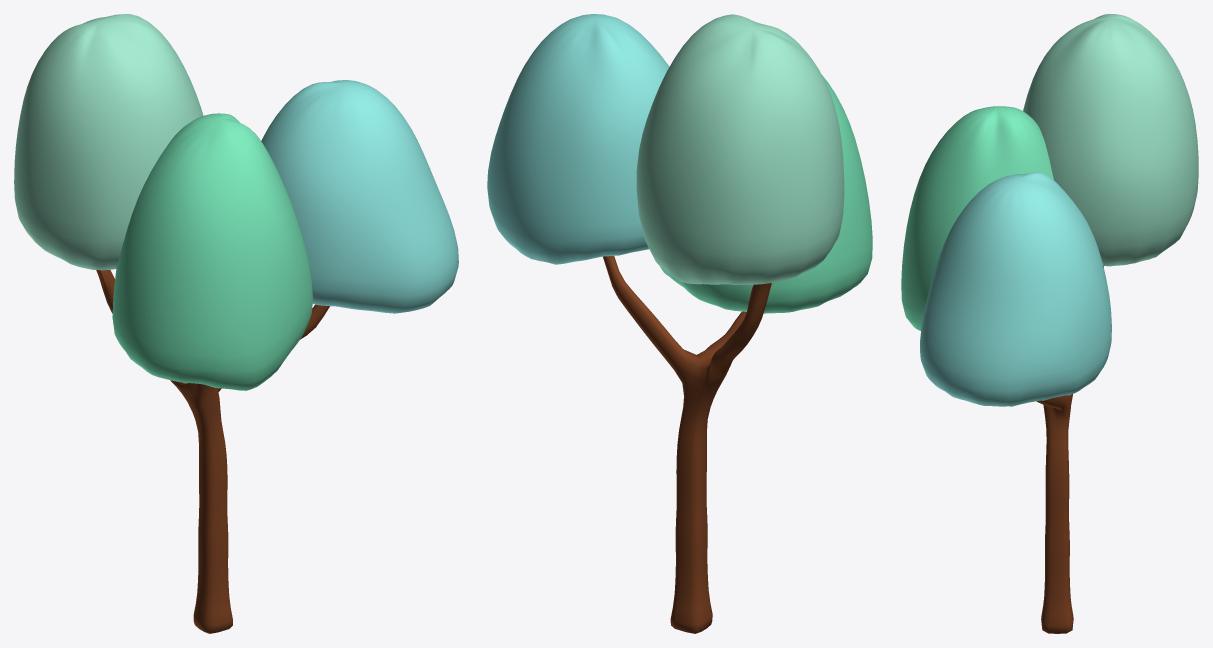
Rendered from XLT1-1.fbx.
3 views of the same model, side by side, from view 1: azimuth 30°, elevation 25°; view 2: azimuth 150°, elevation 25°; view 3: azimuth 270°, elevation 25° (orthographic). The views are drawn at different scales.
Parts seen in each view (by area): view 1: Sphere.002, Sphere.001, Sphere, Trunk 1; view 2: Sphere.001, Sphere, Trunk 1, Sphere.002; view 3: Sphere, Sphere.001, Sphere.002, Trunk 1.
Part boxes in pixels (x1,y1,x2,y2): Sphere.002: [112, 113, 312, 390]; Sphere.001: [14, 14, 203, 270]; Sphere: [261, 80, 458, 313]; Trunk 1: [96, 270, 329, 633]; Sphere.001: [636, 14, 844, 284]; Sphere: [487, 14, 669, 264]; Trunk 1: [603, 256, 771, 633]; Sphere.002: [660, 75, 872, 313]; Sphere: [920, 172, 1111, 406]; Sphere.001: [1023, 14, 1198, 266]; Sphere.002: [901, 106, 1053, 330]; Trunk 1: [1036, 266, 1103, 633].
Bounding box in the file's own units: 2372 × 5052 × 3175.
